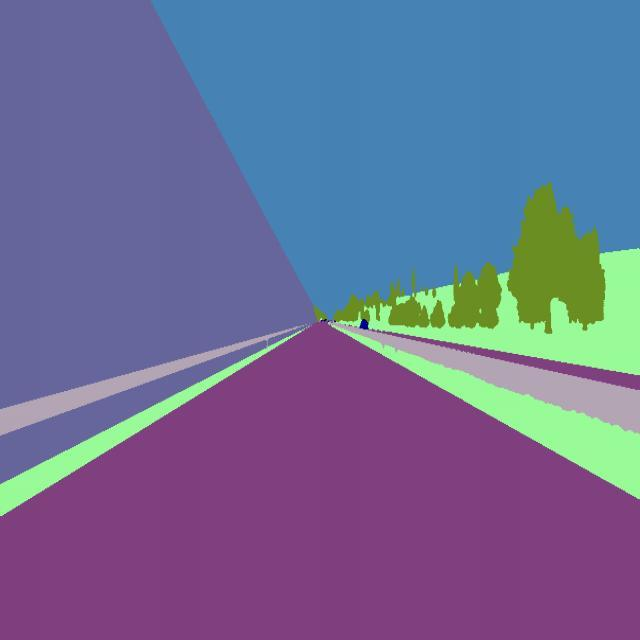safe: (358, 317, 372, 332)
